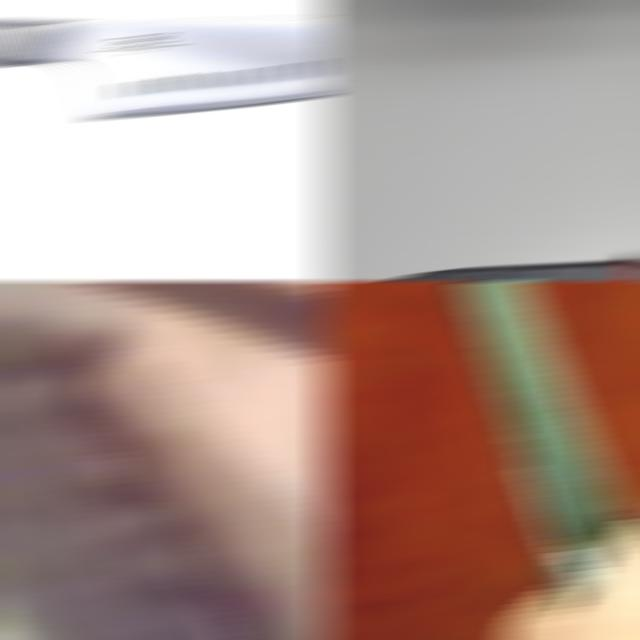Knife: (445, 282, 634, 610), (0, 18, 334, 121)
Knife_Handle: (0, 282, 334, 474)
